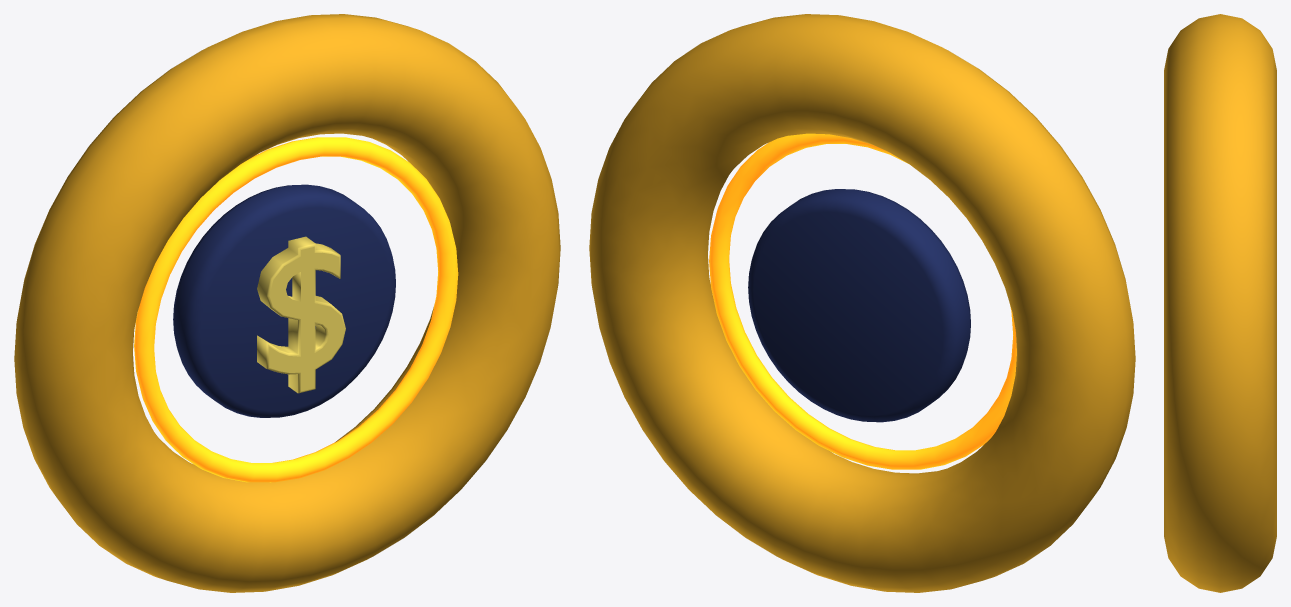
File: sanic-ring.glb
3 renders of one model, left to right at view 1: azimuth 30°, elevation 25°; view 2: azimuth 150°, elevation 25°; view 3: azimuth 270°, elevation 25°, orthographic. The views are drawn at different scales.
Parts seen in each view (by area): view 1: SANIC_Ring; view 2: SANIC_Ring; view 3: SANIC_Ring.
Boxes of the visible parts, bbox=[...] form: SANIC_Ring: bbox=[14, 14, 560, 592]; SANIC_Ring: bbox=[589, 14, 1135, 592]; SANIC_Ring: bbox=[1164, 14, 1276, 592].
Size of the model in its own units: 1.59 by 1.59 by 0.31.
